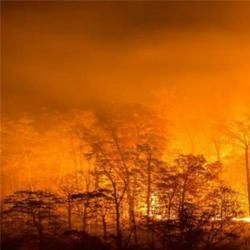fire: (147, 191, 164, 223), (231, 216, 250, 224)
